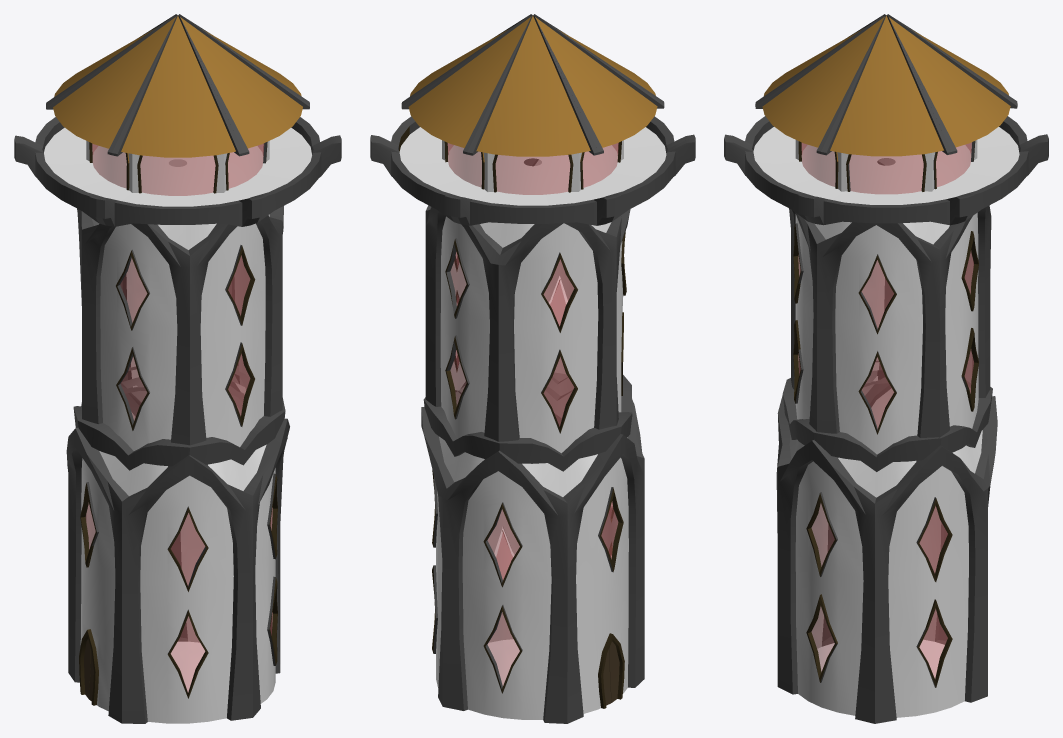
The model's file is Tower_Tall_EXT.fbx.
3 renders of one model, left to right at view 1: azimuth 30°, elevation 25°; view 2: azimuth 150°, elevation 25°; view 3: azimuth 270°, elevation 25°, orthographic.
Parts seen in each view (by area): view 1: Circle.001, Cylinder.002, Cylinder.001, door.001; view 2: Circle.001, Cylinder.002, Cylinder.001, door.001; view 3: Circle.001, Cylinder.002, Cylinder.001.
Part boxes in pixels (left/top/right/bottom): Circle.001: left=66, top=159, right=289, bottom=723; Cylinder.002: left=14, top=14, right=341, bottom=226; Cylinder.001: left=73, top=366, right=285, bottom=470; door.001: left=79, top=629, right=98, bottom=705; Circle.001: left=421, top=158, right=644, bottom=723; Cylinder.002: left=370, top=14, right=695, bottom=225; Cylinder.001: left=423, top=375, right=632, bottom=471; door.001: left=598, top=633, right=624, bottom=708; Circle.001: left=776, top=158, right=997, bottom=723; Cylinder.002: left=724, top=14, right=1048, bottom=225; Cylinder.001: left=782, top=360, right=992, bottom=471.
Size of the model in its own units: 14944 by 37879 by 16838.
